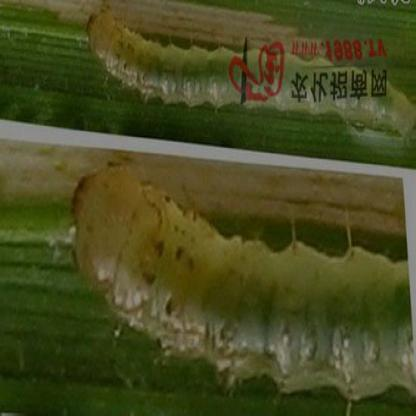leaf-folder: (63, 149, 416, 415), (83, 4, 219, 122)
